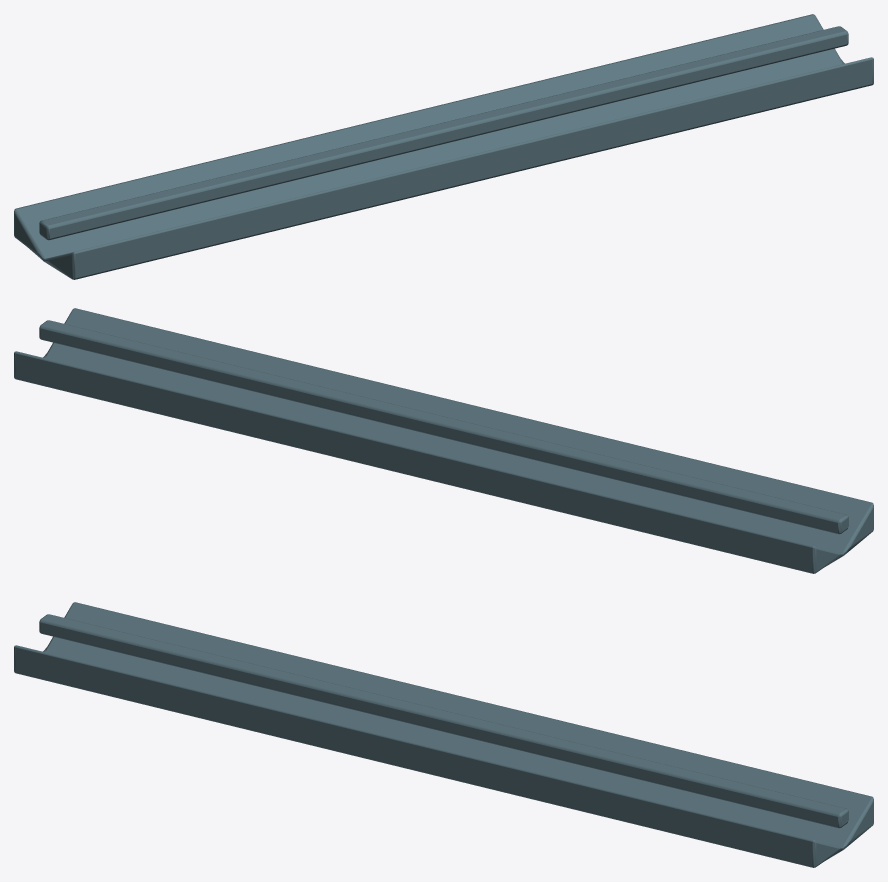
File: SM_Roof_Ridge_4m.glb
The picture shows the model from 3 angles, top to bottom: view 1: azimuth 30°, elevation 25°; view 2: azimuth 150°, elevation 25°; view 3: azimuth 330°, elevation 25°; orthographic projection.
Parts seen in each view (by area): view 1: SM_Roof_Ridge_4m; view 2: SM_Roof_Ridge_4m; view 3: SM_Roof_Ridge_4m.
Part boxes in pixels (bbox=[...]): SM_Roof_Ridge_4m: bbox=[14, 14, 873, 279]; SM_Roof_Ridge_4m: bbox=[14, 308, 873, 573]; SM_Roof_Ridge_4m: bbox=[14, 602, 873, 867].
Size of the model in its own units: 4 by 0.1812 by 0.52.
